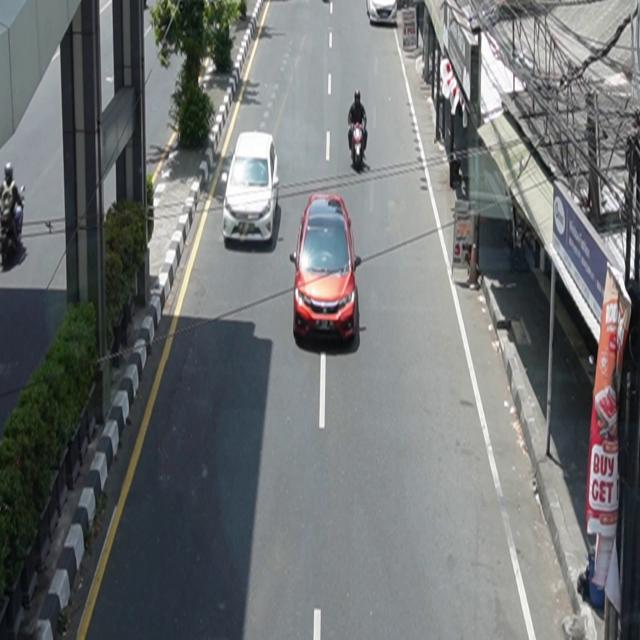car: (291, 194, 362, 345), (223, 131, 280, 245), (367, 1, 398, 26)
